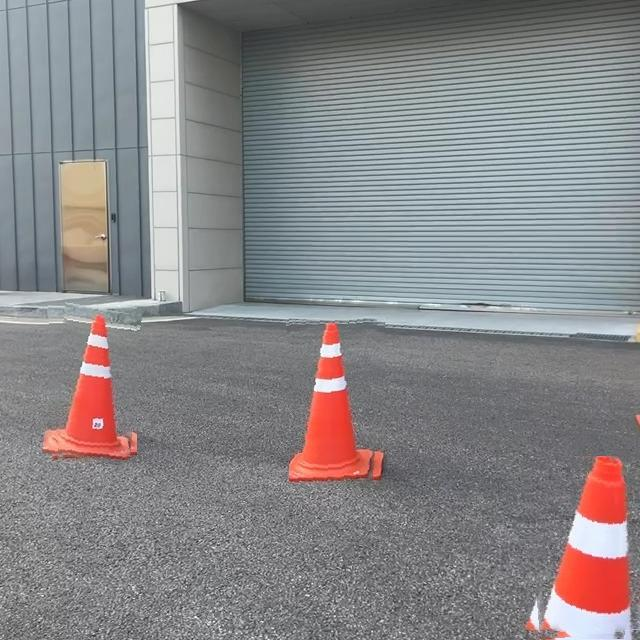fallen_object: (500, 403, 640, 640), (237, 313, 370, 494), (47, 296, 156, 464)
